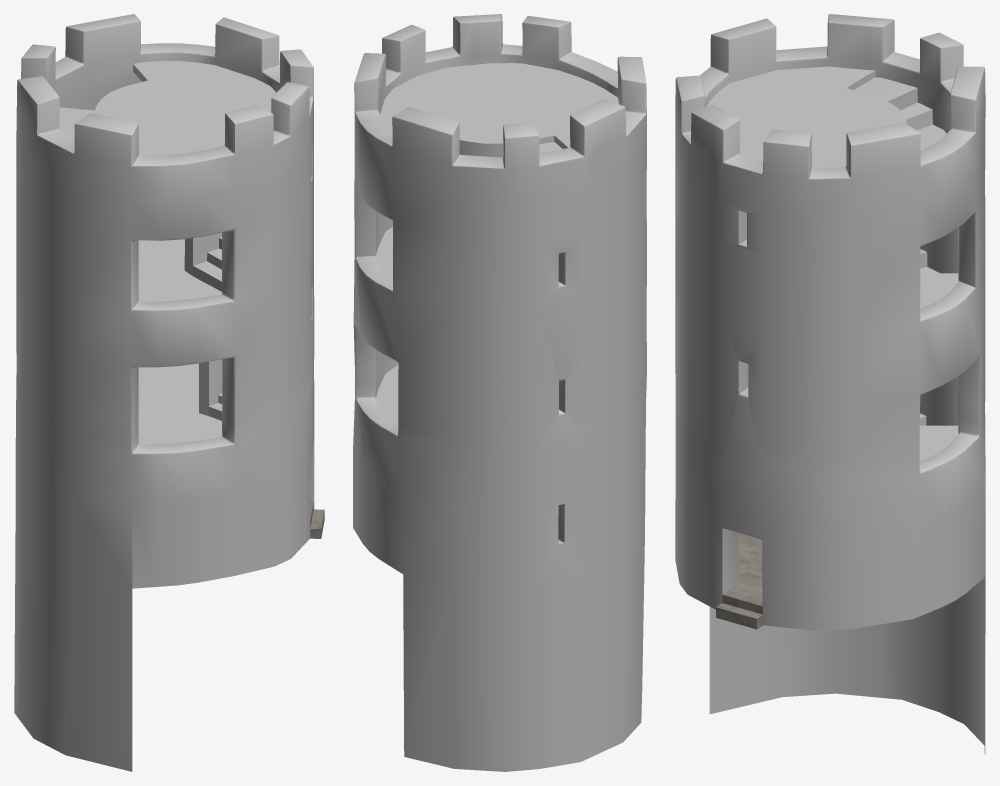
Rendered from tower_wall.fbx.
The picture shows the model from 3 angles, left to right: view 1: azimuth 30°, elevation 25°; view 2: azimuth 150°, elevation 25°; view 3: azimuth 270°, elevation 25°; orthographic projection. The views are drawn at different scales.
Visible parts, largest first — view 1: tour_mur_01, sol_haut_tour_mur, sol_etg1_tour_mur, sol_etg2_tour_mur, stairs_etg2, stairs_etg1; view 2: tour_mur_01, sol_haut_tour_mur, sol_etg1_tour_mur, sol_etg2_tour_mur; view 3: tour_mur_01, sol_haut_tour_mur, sol_bas_tour_mur, stairs_etg2, sol_etg1_tour_mur, sol_etg2_tour_mur.
Part boxes in pixels (bbox=[...]): tour_mur_01: bbox=[14, 14, 314, 771]; sol_haut_tour_mur: bbox=[59, 61, 276, 155]; sol_etg1_tour_mur: bbox=[138, 363, 222, 444]; sol_etg2_tour_mur: bbox=[138, 239, 222, 301]; stairs_etg2: bbox=[59, 107, 222, 291]; stairs_etg1: bbox=[199, 359, 222, 420]; tour_mur_01: bbox=[353, 14, 646, 771]; sol_haut_tour_mur: bbox=[380, 63, 618, 151]; sol_etg1_tour_mur: bbox=[375, 364, 398, 422]; sol_etg2_tour_mur: bbox=[375, 227, 392, 277]; tour_mur_01: bbox=[675, 14, 985, 754]; sol_haut_tour_mur: bbox=[706, 66, 945, 167]; sol_bas_tour_mur: bbox=[716, 532, 762, 629]; stairs_etg2: bbox=[854, 77, 946, 134]; sol_etg1_tour_mur: bbox=[919, 425, 958, 461]; sol_etg2_tour_mur: bbox=[920, 273, 958, 308].
Bounding box in the file's own units: 1058 × 2524 × 1036.
